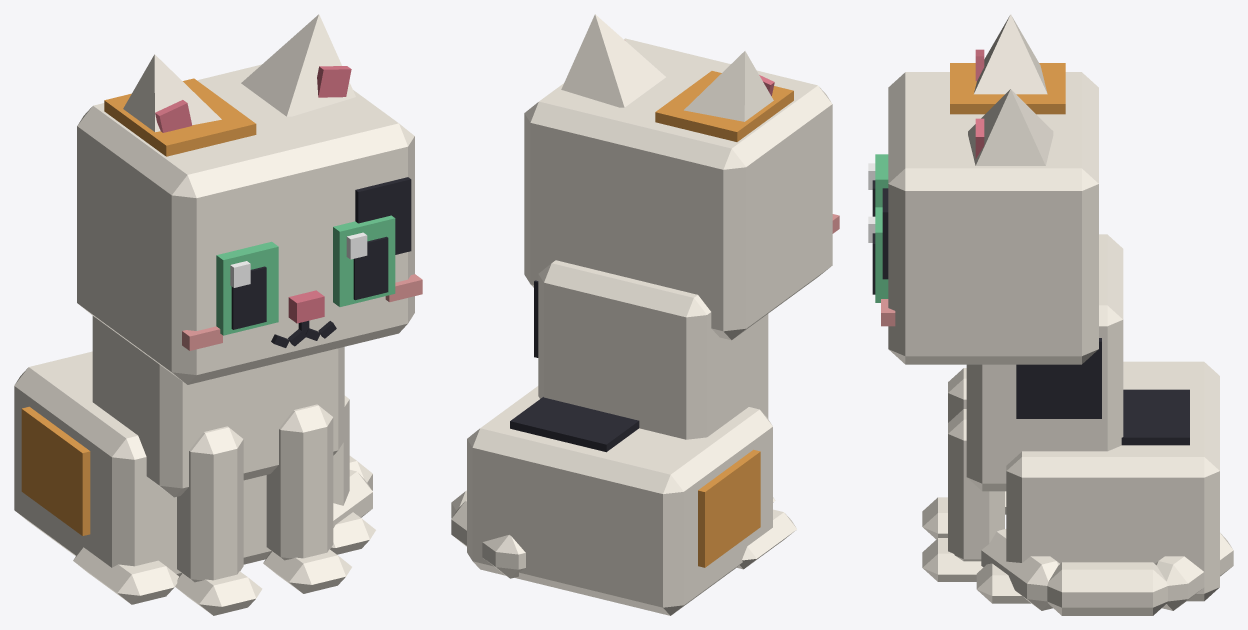
Rendered from CatCafe_Cat_Calico_Sit.glb.
3 views of the same model, side by side, from view 1: azimuth 30°, elevation 25°; view 2: azimuth 150°, elevation 25°; view 3: azimuth 270°, elevation 25° (orthographic). The views are drawn at different scales.
Parts seen in each view (by area): view 1: CatCafe_Cat_Calico_Sit_Head, CatCafe_Cat_Calico_Sit_Body, CatCafe_Cat_Calico_Sit_LegF1, CatCafe_Cat_Calico_Sit_LegF2, CatCafe_Cat_Calico_Sit_EarL, CatCafe_Cat_Calico_Sit_Eye2, CatCafe_Cat_Calico_Sit_Eye1, CatCafe_Cat_Calico_Sit_EarR, CatCafe_Cat_Calico_Sit_Tail; view 2: CatCafe_Cat_Calico_Sit_Body, CatCafe_Cat_Calico_Sit_Head, CatCafe_Cat_Calico_Sit_EarL, CatCafe_Cat_Calico_Sit_EarR, CatCafe_Cat_Calico_Sit_Tail; view 3: CatCafe_Cat_Calico_Sit_Head, CatCafe_Cat_Calico_Sit_Body, CatCafe_Cat_Calico_Sit_Tail, CatCafe_Cat_Calico_Sit_LegF1, CatCafe_Cat_Calico_Sit_EarL, CatCafe_Cat_Calico_Sit_EarR, CatCafe_Cat_Calico_Sit_LegF2, CatCafe_Cat_Calico_Sit_Eye1, CatCafe_Cat_Calico_Sit_Eye2.
Boxes of the visible parts, x1,y1,x2,y2 form: CatCafe_Cat_Calico_Sit_Head: [77, 64, 422, 384]; CatCafe_Cat_Calico_Sit_Body: [14, 316, 375, 604]; CatCafe_Cat_Calico_Sit_LegF1: [263, 404, 351, 593]; CatCafe_Cat_Calico_Sit_LegF2: [175, 426, 262, 615]; CatCafe_Cat_Calico_Sit_EarL: [241, 14, 355, 116]; CatCafe_Cat_Calico_Sit_Eye2: [216, 241, 278, 335]; CatCafe_Cat_Calico_Sit_Eye1: [333, 215, 395, 306]; CatCafe_Cat_Calico_Sit_EarR: [123, 54, 221, 132]; CatCafe_Cat_Calico_Sit_Tail: [333, 456, 372, 527]; CatCafe_Cat_Calico_Sit_Body: [467, 260, 796, 615]; CatCafe_Cat_Calico_Sit_Head: [524, 38, 839, 340]; CatCafe_Cat_Calico_Sit_EarL: [561, 14, 665, 107]; CatCafe_Cat_Calico_Sit_EarR: [684, 51, 774, 121]; CatCafe_Cat_Calico_Sit_Tail: [451, 490, 525, 578]; CatCafe_Cat_Calico_Sit_Head: [881, 63, 1098, 364]; CatCafe_Cat_Calico_Sit_Body: [966, 234, 1219, 603]; CatCafe_Cat_Calico_Sit_Tail: [981, 529, 1233, 615]; CatCafe_Cat_Calico_Sit_LegF1: [922, 409, 1004, 581]; CatCafe_Cat_Calico_Sit_EarL: [968, 89, 1053, 165]; CatCafe_Cat_Calico_Sit_EarR: [974, 14, 1047, 94]; CatCafe_Cat_Calico_Sit_LegF2: [922, 368, 966, 539]; CatCafe_Cat_Calico_Sit_Eye1: [868, 207, 888, 302]; CatCafe_Cat_Calico_Sit_Eye2: [868, 154, 888, 216].
Size of the model in its own units: 1.05 by 1.85 by 1.22.
Materials: 1 (1 with a texture image).
